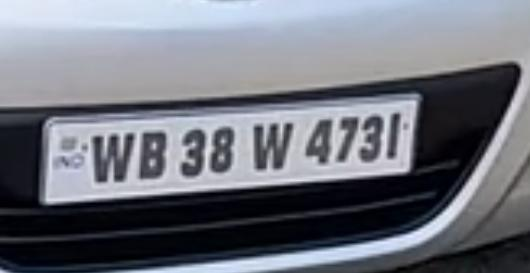1: (387, 107, 404, 168)
3: (179, 121, 207, 179), (360, 113, 384, 163)
4: (304, 115, 335, 166)
7: (336, 111, 359, 166)
8: (210, 120, 238, 177)
B: (138, 127, 170, 182)
W: (85, 123, 139, 187), (249, 115, 296, 177)
